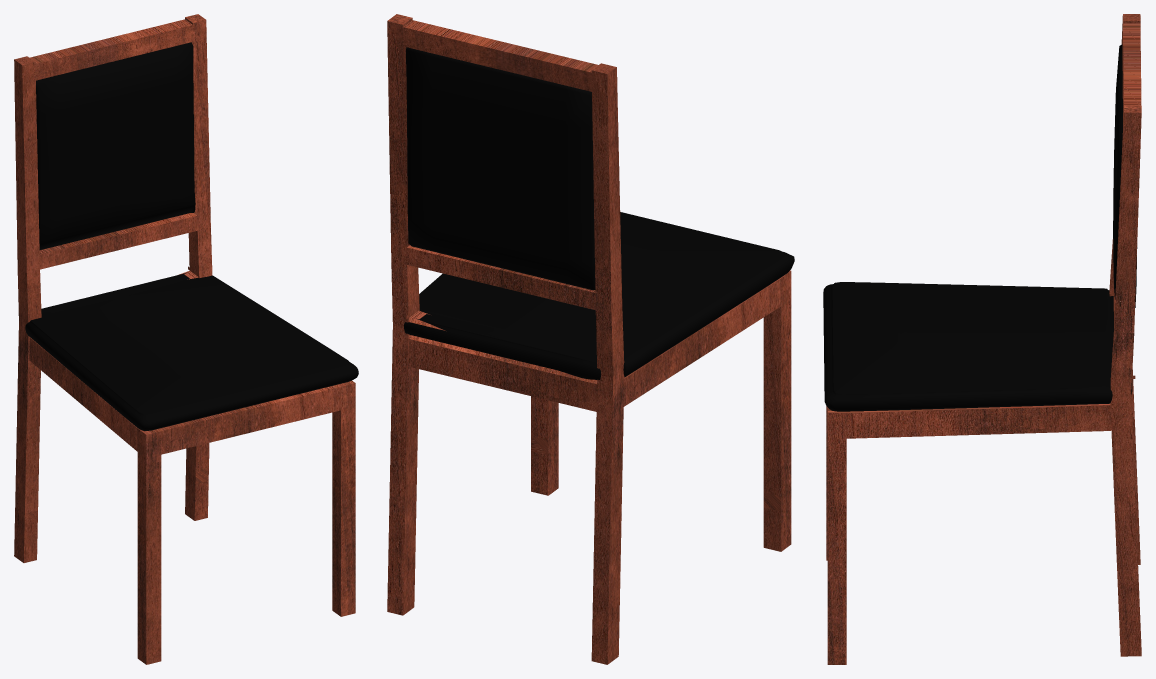
The model's file is Folke_Chair-3D.DAE.
The picture shows the model from 3 angles, left to right: view 1: azimuth 30°, elevation 25°; view 2: azimuth 150°, elevation 25°; view 3: azimuth 270°, elevation 25°; orthographic projection. The views are drawn at different scales.
Parts seen in each view (by area): view 1: Object01; view 2: Object01; view 3: Object01.
Part boxes in pixels (x1,y1,x2,y2): Object01: (14,14,358,664); Object01: (387,14,794,664); Object01: (823,14,1141,664).
Size of the model in its own units: 431 by 936 by 496.
